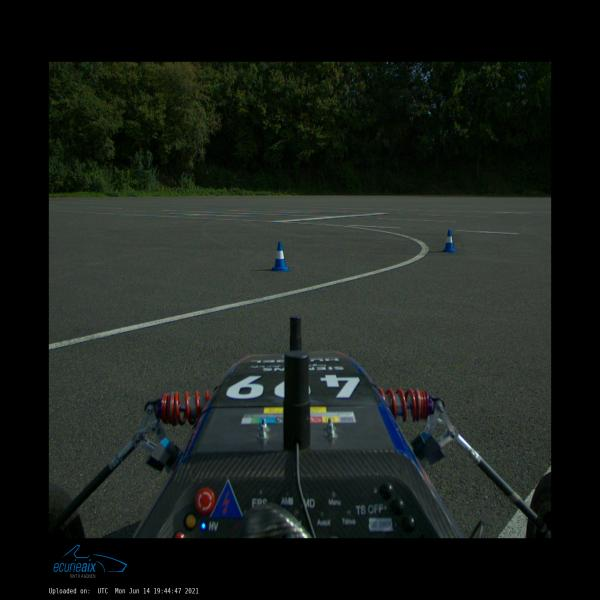blue_cone: (270, 242, 290, 272), (441, 229, 458, 253)
